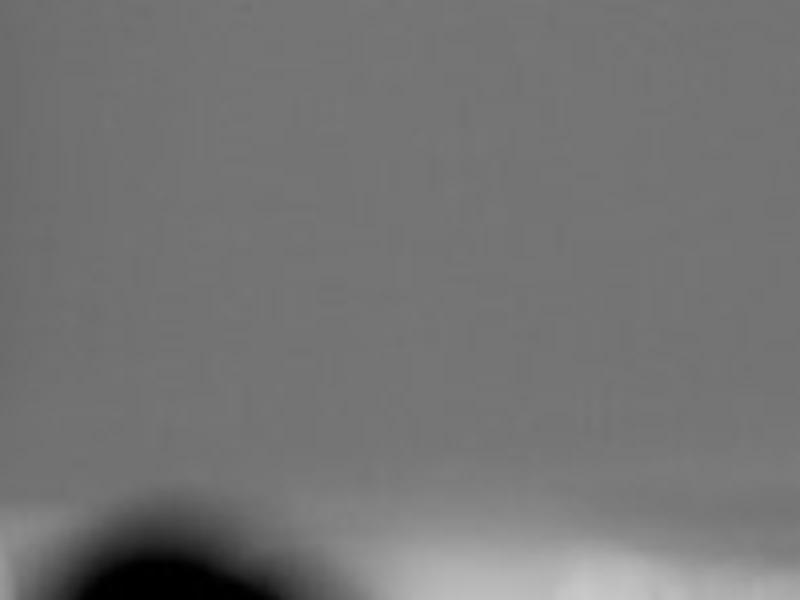defect: (55, 525, 307, 597)
